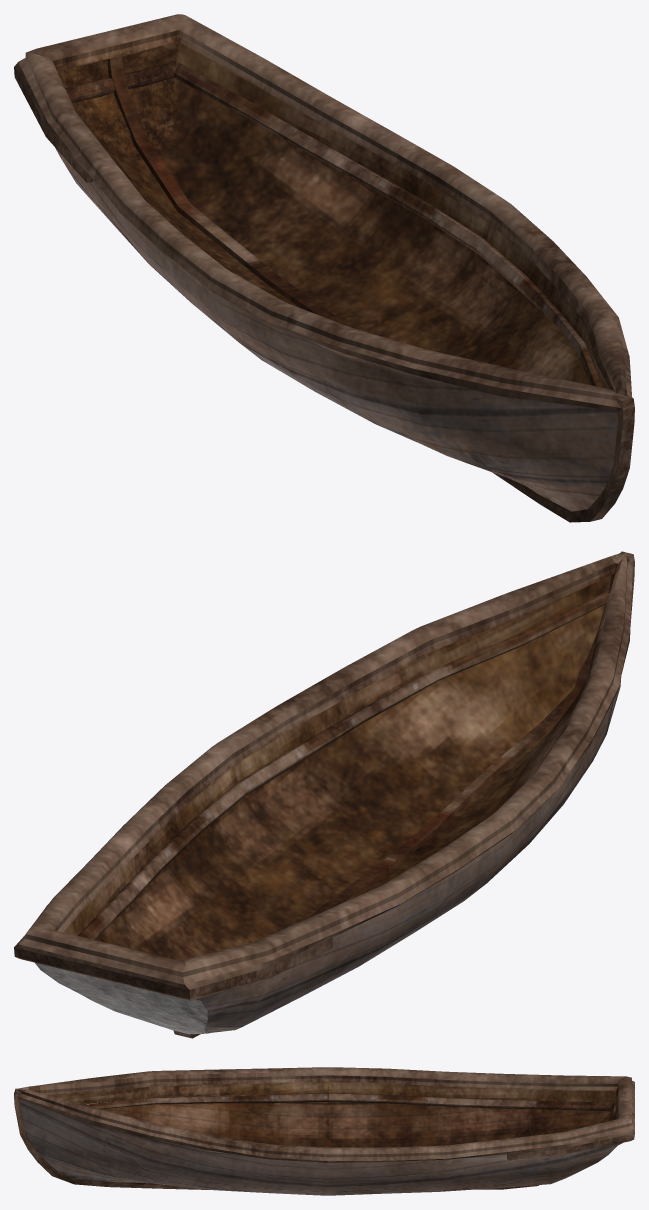
Rendered from Boat.fbx.
The picture shows the model from 3 angles, top to bottom: view 1: azimuth 30°, elevation 25°; view 2: azimuth 150°, elevation 25°; view 3: azimuth 270°, elevation 25°; orthographic projection. The views are drawn at different scales.
Parts seen in each view (by area): view 1: body_low; view 2: body_low; view 3: body_low.
Boxes of the visible parts, x1,y1,x2,y2 form: body_low: (14,14,634,522); body_low: (14,551,634,1038); body_low: (14,1067,634,1195).
Size of the model in its own units: 360 by 192 by 1077.
